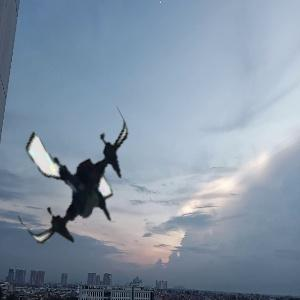drone: (7, 110, 150, 253)
